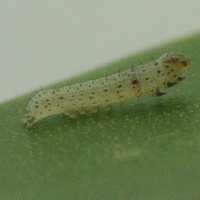insect: (23, 53, 190, 126)
